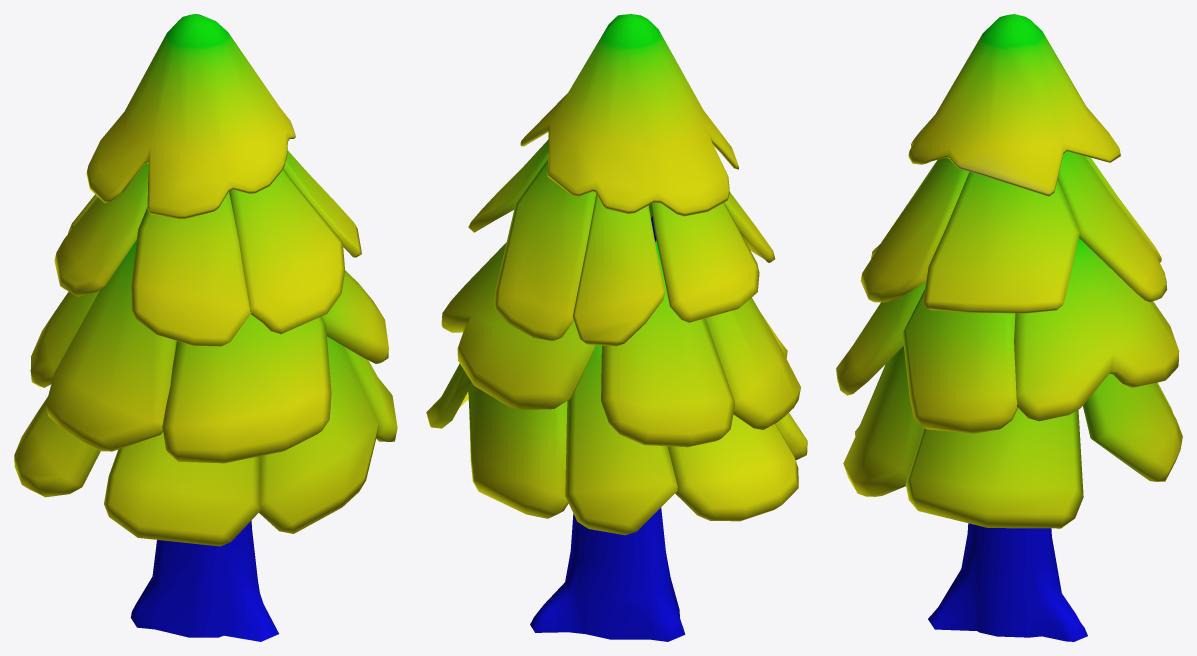
Rendered from SM_HealthyFirTree_01_LOD2.fbx.
The picture shows the model from 3 angles, left to right: view 1: azimuth 30°, elevation 25°; view 2: azimuth 150°, elevation 25°; view 3: azimuth 270°, elevation 25°; orthographic projection.
Parts seen in each view (by area): view 1: FirTree_Trunk_LOD2; view 2: FirTree_Trunk_LOD2; view 3: FirTree_Trunk_LOD2.
Part boxes in pixels (box(x1,y1,x2,y2)): FirTree_Trunk_LOD2: box(14, 14, 397, 641); FirTree_Trunk_LOD2: box(426, 14, 807, 641); FirTree_Trunk_LOD2: box(836, 14, 1182, 641).
Size of the model in its own units: 441 by 502 by 833.
